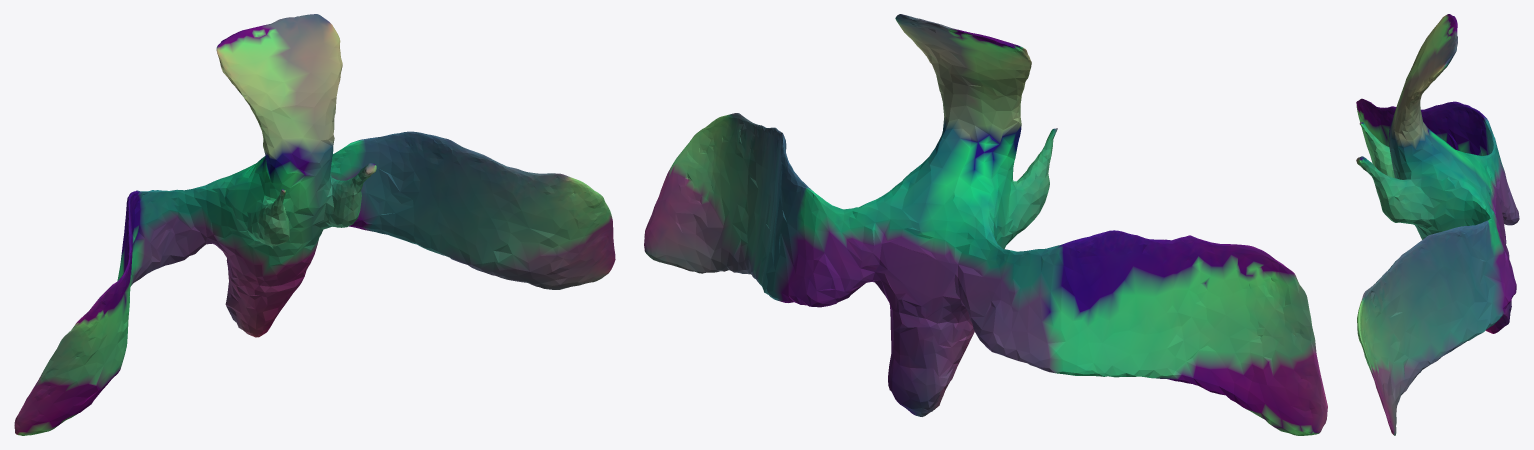
Rendered from bird2-18.off.obj.
The picture shows the model from 3 angles, left to right: view 1: azimuth 30°, elevation 25°; view 2: azimuth 150°, elevation 25°; view 3: azimuth 270°, elevation 25°; orthographic projection. The views are drawn at different scales.
Size of the model in its own units: 1.56 by 0.82 by 0.4088.
